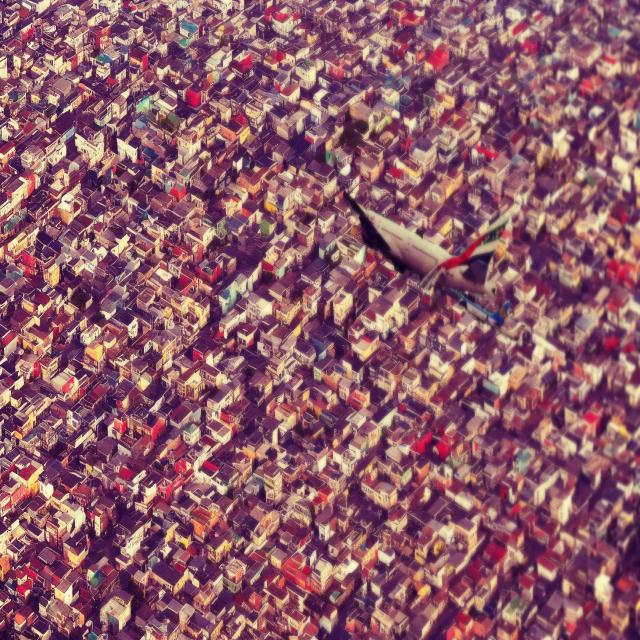airplane: (343, 187, 511, 311)
